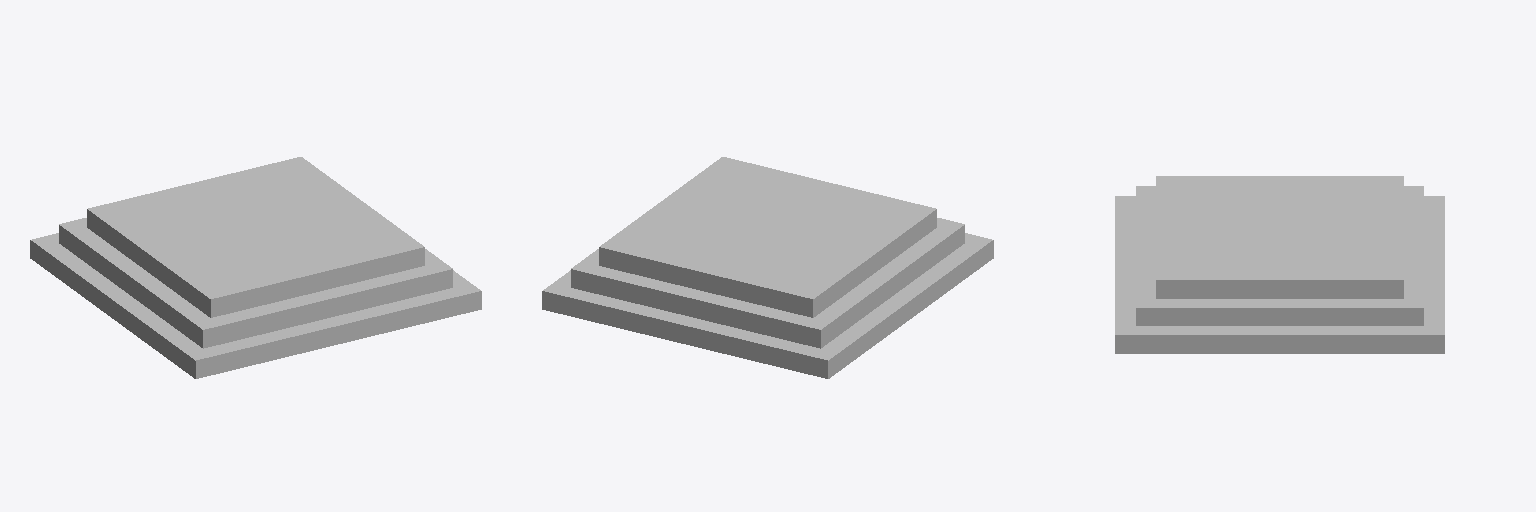
File: rose's_shield.obj
The picture shows the model from 3 angles: view 1: azimuth 30°, elevation 25°; view 2: azimuth 150°, elevation 25°; view 3: azimuth 270°, elevation 25°; orthographic projection.
Visible parts, largest first — view 1: cube; view 2: cube; view 3: cube.
Boxes of the visible parts, box(x1,y1,x2,y2) form: cube: box(30, 157, 481, 378); cube: box(542, 157, 993, 378); cube: box(1115, 176, 1444, 353).
Bounding box in the file's own units: 1 × 0.1875 × 1.